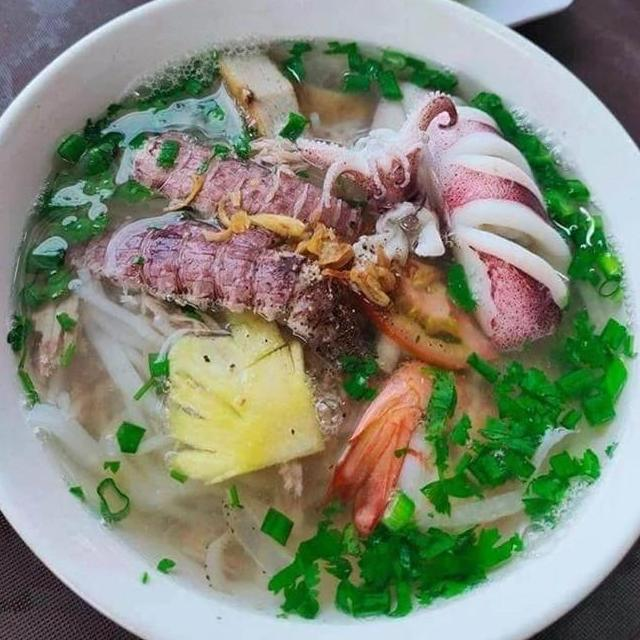bun: (20, 258, 278, 538)
bun hai san: (3, 14, 624, 640)
muc: (362, 64, 580, 356), (288, 81, 464, 278)
tom: (308, 350, 510, 550)
tom tit: (48, 208, 378, 366), (112, 124, 398, 282)
